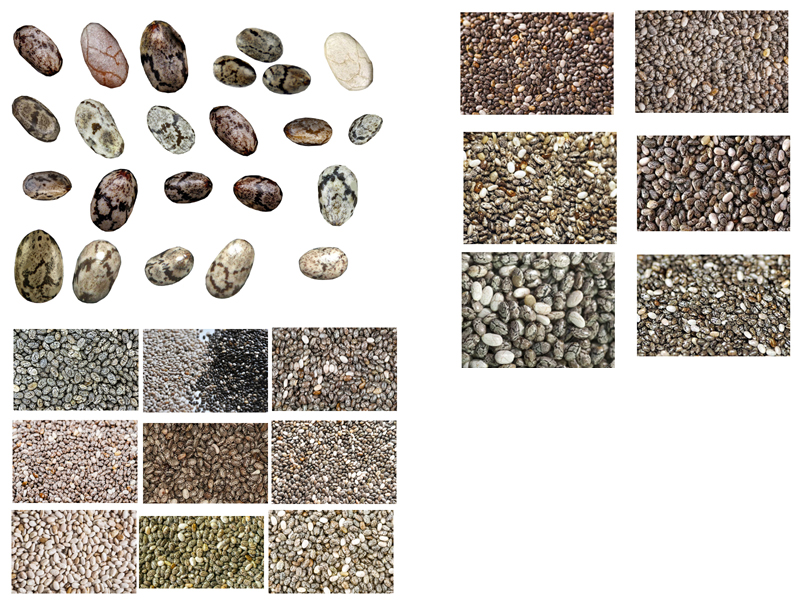chia seed: (472, 134, 614, 239), (464, 264, 612, 360), (640, 264, 788, 354), (465, 19, 609, 111), (639, 17, 780, 107), (647, 144, 787, 224), (19, 331, 134, 410), (147, 426, 263, 500), (275, 425, 391, 499), (274, 517, 388, 592), (18, 516, 132, 589), (147, 337, 265, 407), (20, 425, 134, 495), (280, 334, 387, 405), (146, 520, 259, 584), (10, 226, 63, 304), (137, 20, 191, 93), (4, 20, 70, 78), (69, 239, 125, 307), (70, 97, 130, 159), (202, 235, 259, 299), (79, 18, 129, 90), (86, 167, 141, 231), (207, 100, 265, 159), (322, 28, 375, 92), (8, 87, 65, 144), (314, 159, 360, 229), (136, 104, 197, 155), (140, 244, 198, 289), (229, 169, 283, 214), (291, 244, 351, 282), (161, 168, 216, 206), (340, 106, 387, 149), (20, 168, 77, 203), (277, 114, 335, 147)
